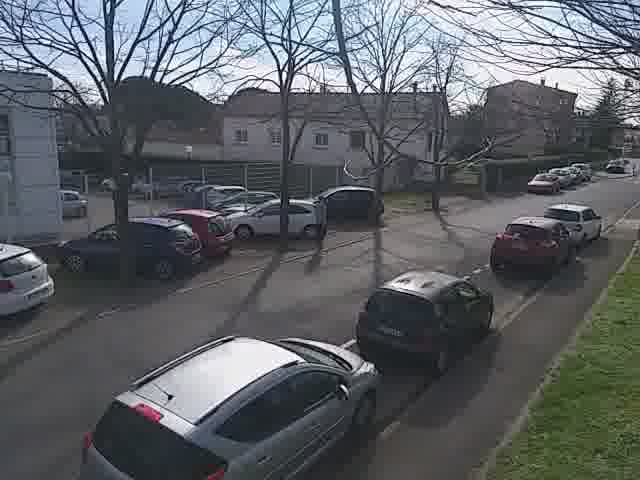persona: (303, 189, 336, 256)
